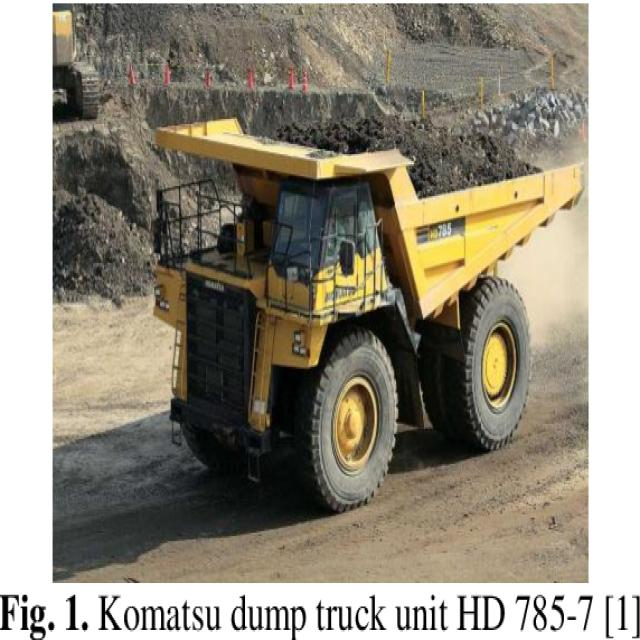dump_truck: (149, 117, 584, 512)
